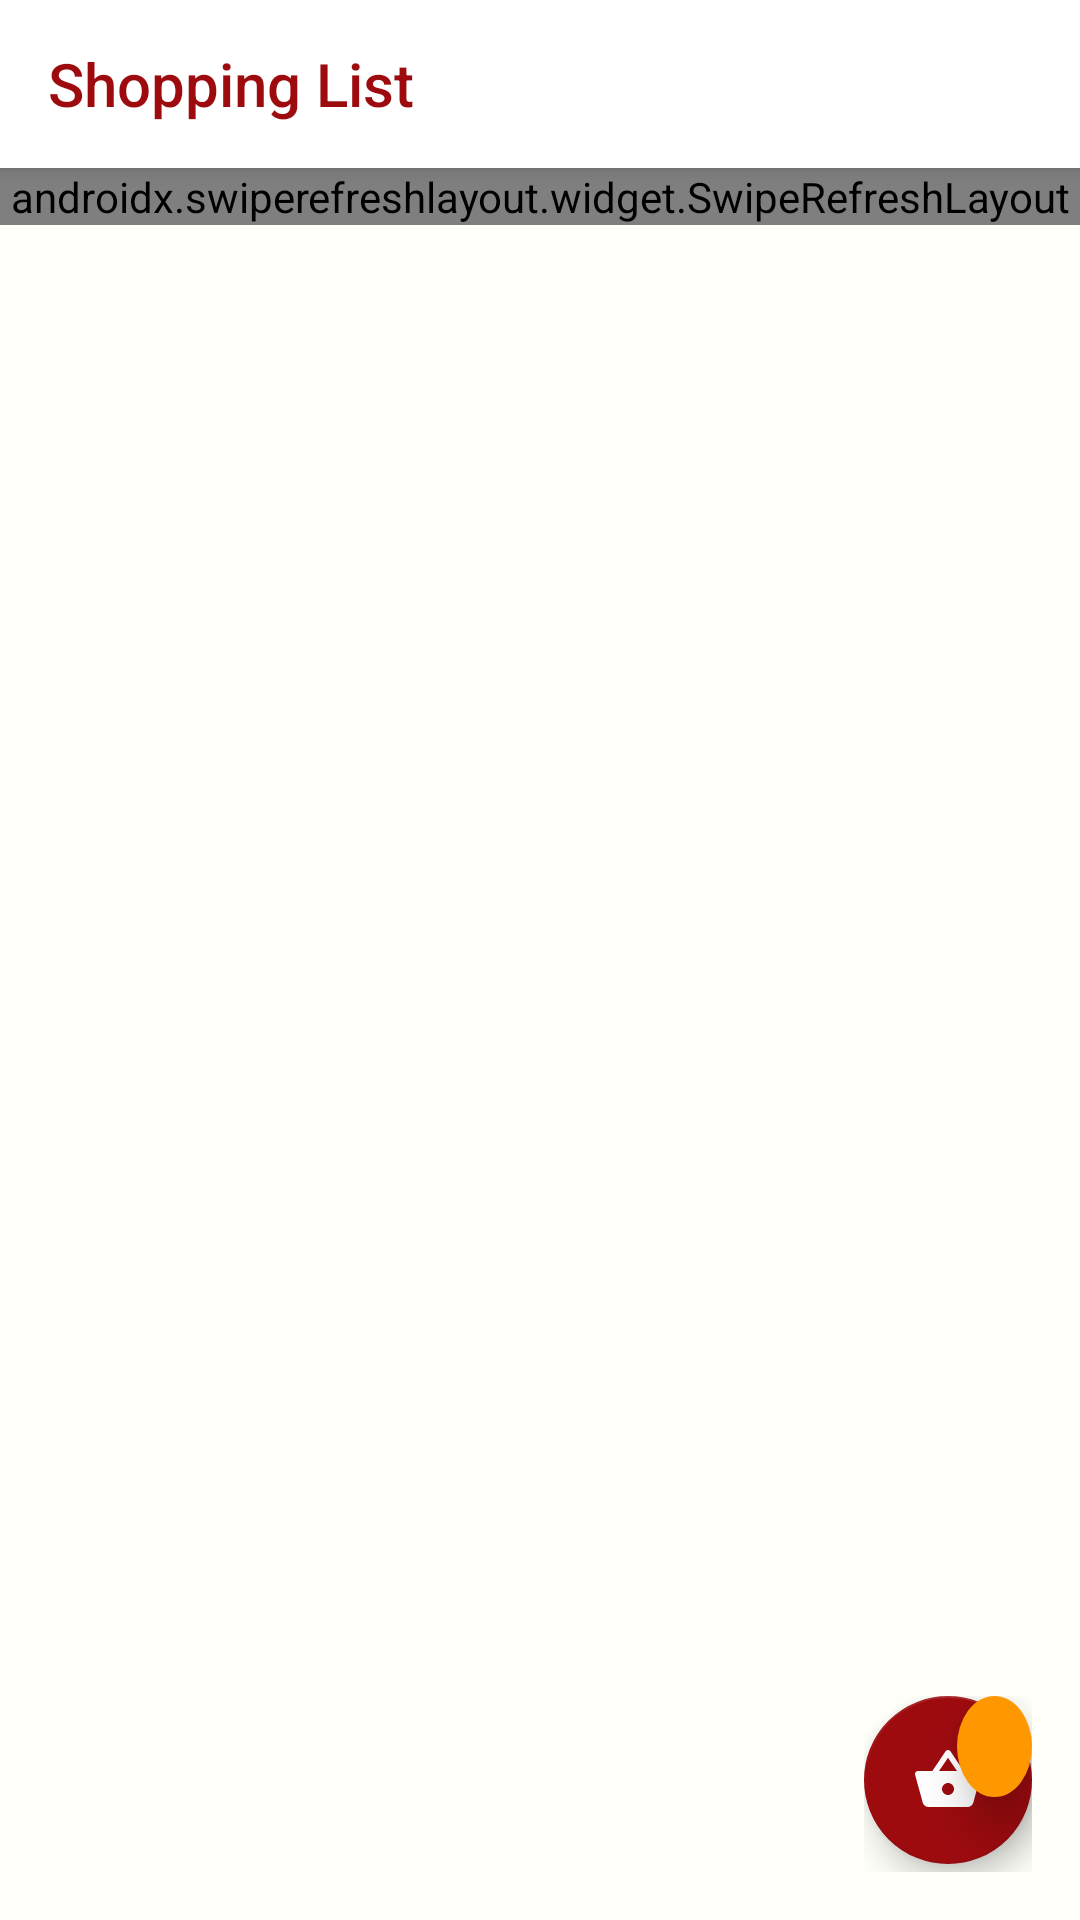

Screen size 1080px×1920px. Icon name, then its box in pixels as (x1, y1, x2, y2):
shopping basket: (864, 1696, 1032, 1864)
